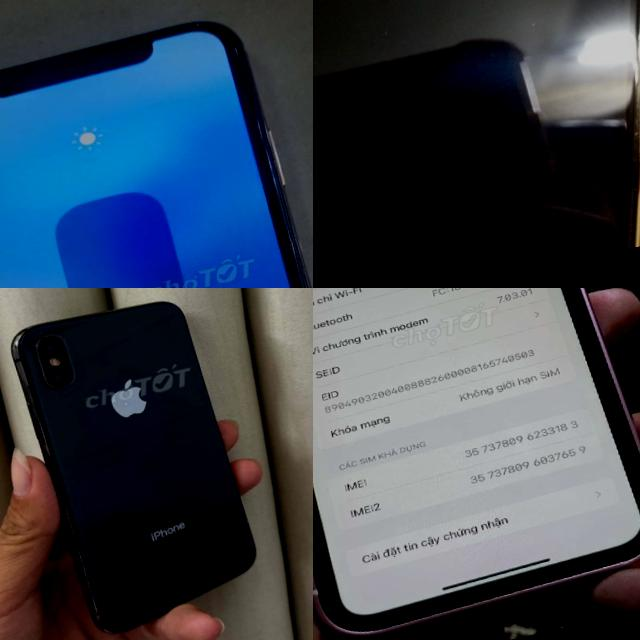gen_12_13: (313, 0, 640, 288)
gen_x_xs: (313, 288, 640, 634), (0, 2, 313, 288), (11, 302, 254, 631)
